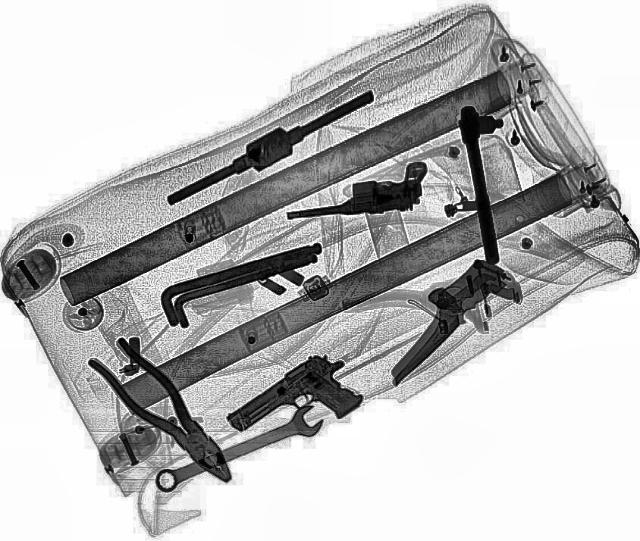Gun: (221, 343, 377, 460), (280, 160, 434, 223)
Pliers: (79, 333, 249, 491)
Wrench: (146, 402, 332, 498)
